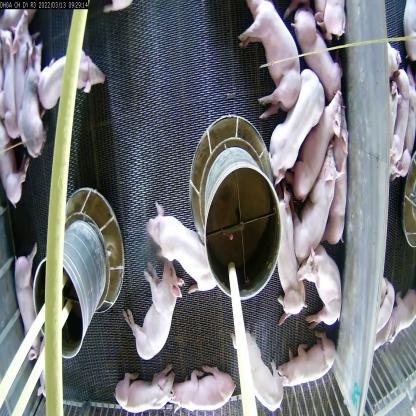Pig: (243, 0, 296, 126), (8, 227, 50, 371), (151, 209, 218, 299), (10, 50, 52, 174), (43, 36, 109, 114), (292, 100, 337, 213), (266, 71, 316, 168), (133, 252, 180, 352), (272, 190, 304, 315), (281, 327, 339, 395), (235, 336, 282, 416), (168, 361, 234, 416), (112, 360, 172, 416), (302, 250, 346, 326), (300, 163, 330, 262)
